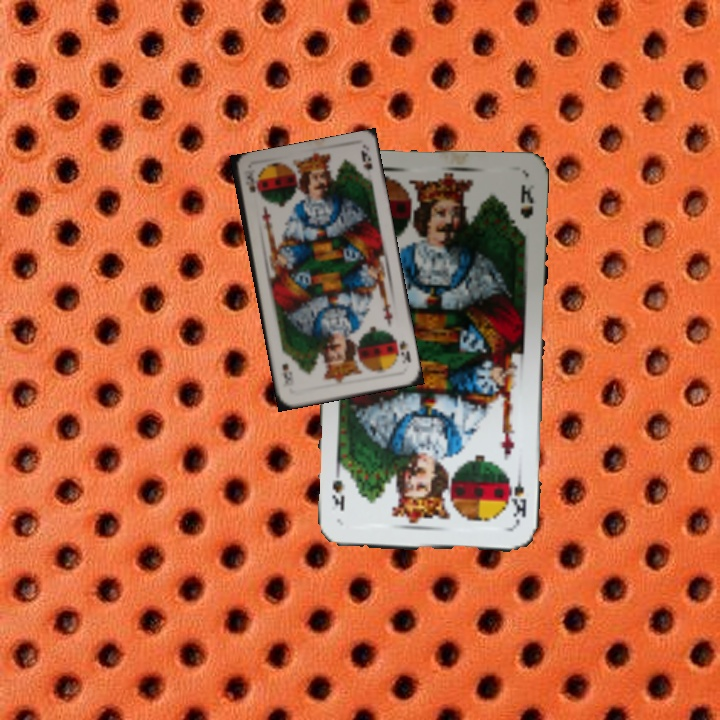SK: (508, 467, 529, 526), (391, 335, 413, 365), (241, 169, 259, 195)
